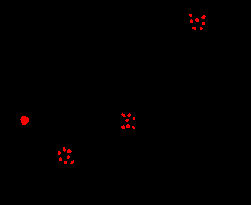Target: (20, 116, 29, 125), (201, 15, 206, 19), (121, 113, 126, 117), (67, 149, 72, 153), (195, 18, 199, 22), (127, 113, 131, 117), (126, 124, 130, 128), (121, 125, 125, 129), (70, 160, 74, 164), (63, 147, 66, 152), (190, 19, 193, 23), (192, 27, 196, 30), (125, 119, 129, 122), (58, 151, 61, 155), (67, 155, 70, 159), (59, 157, 62, 161), (189, 14, 192, 17), (202, 22, 205, 25), (200, 27, 203, 30), (132, 126, 135, 129), (64, 161, 67, 164), (133, 117, 135, 120)
